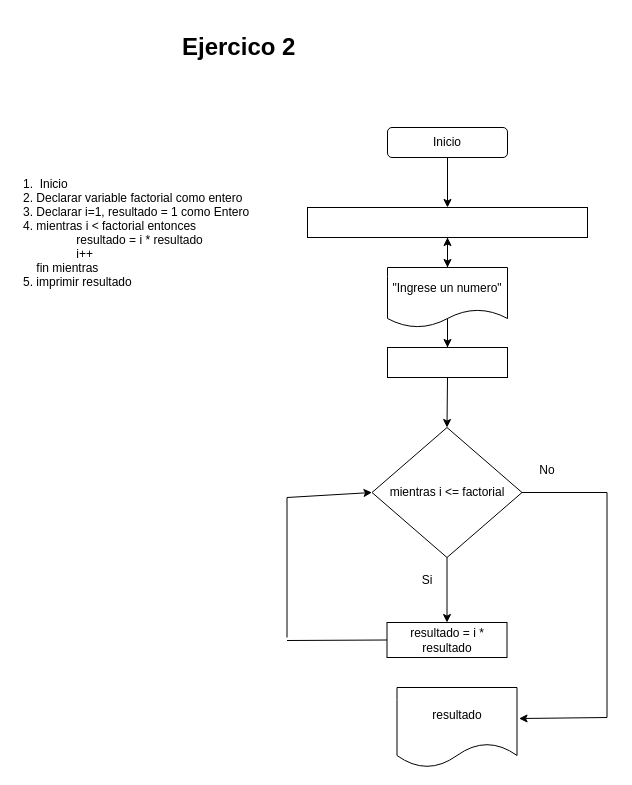
Image size: 632x785. Some labels were removed from this diagram. The centre of each missing label's shape, as x and y in pixels:
declarar factorial, resultado = 1, i = 1 como Entero: (447,222)
leer factorial: (447,362)
